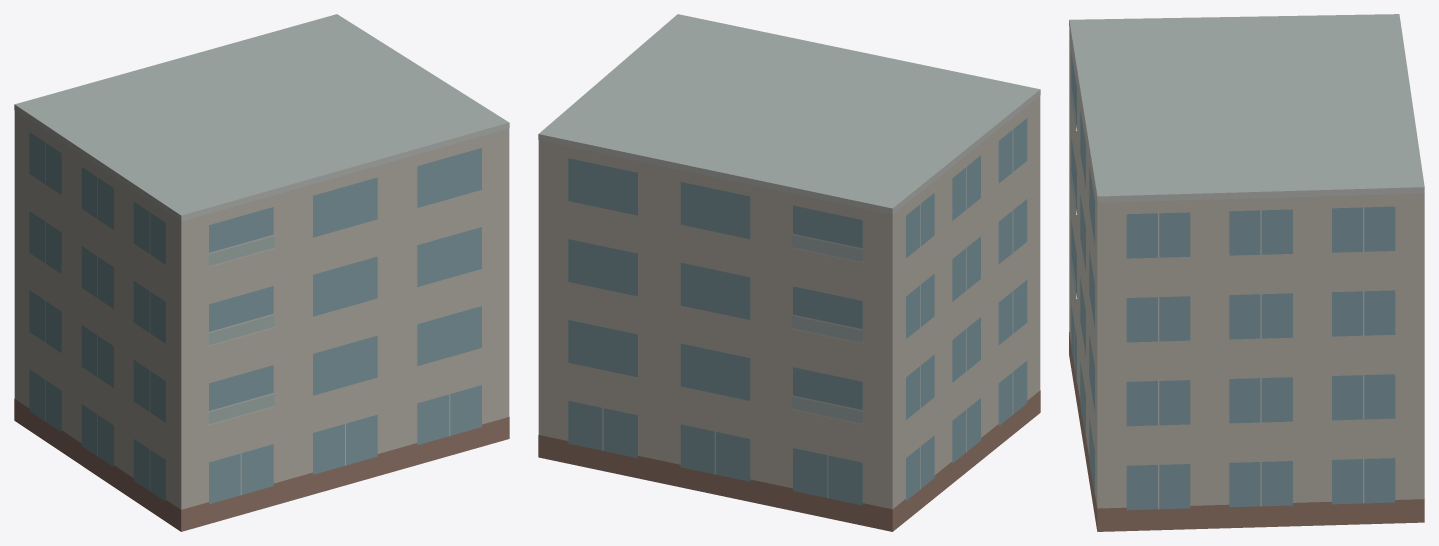
The model's file is survey-upis-32913553.glb.
3 views of the same model, side by side, from view 1: azimuth 30°, elevation 25°; view 2: azimuth 150°, elevation 25°; view 3: azimuth 270°, elevation 25° (orthographic). The views are drawn at different scales.
Visible parts, largest first — view 1: survey-upis-32913553.tmp; view 2: survey-upis-32913553.tmp; view 3: survey-upis-32913553.tmp.
Boxes of the visible parts, x1=… form: survey-upis-32913553.tmp: x1=14, y1=14, x2=509, y2=531; survey-upis-32913553.tmp: x1=538, y1=14, x2=1040, y2=531; survey-upis-32913553.tmp: x1=1069, y1=14, x2=1424, y2=531.
Bounding box in the file's own units: 15.29 × 13.1 × 12.59.
